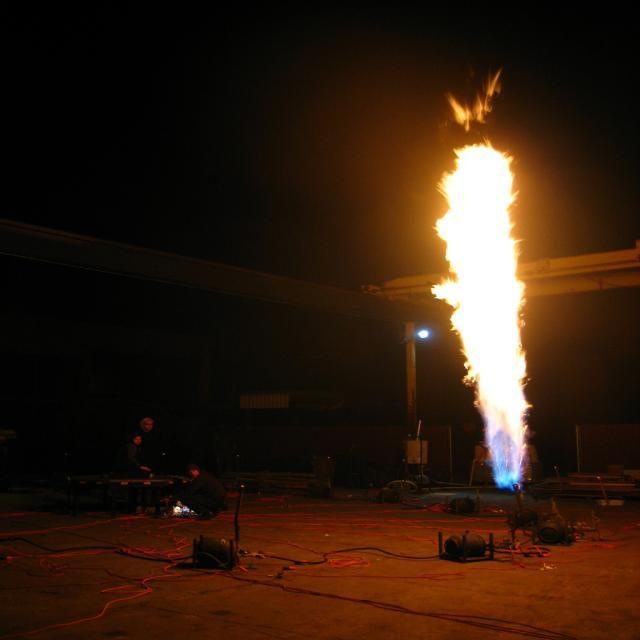Fire: (466, 156, 508, 375), (494, 384, 521, 461)
